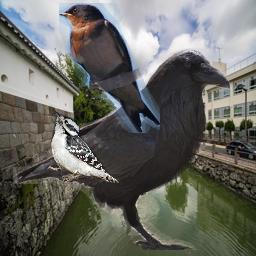Crow: (13, 48, 232, 250)
Swallow: (59, 3, 160, 133)
Woodpecker: (45, 109, 119, 183)
